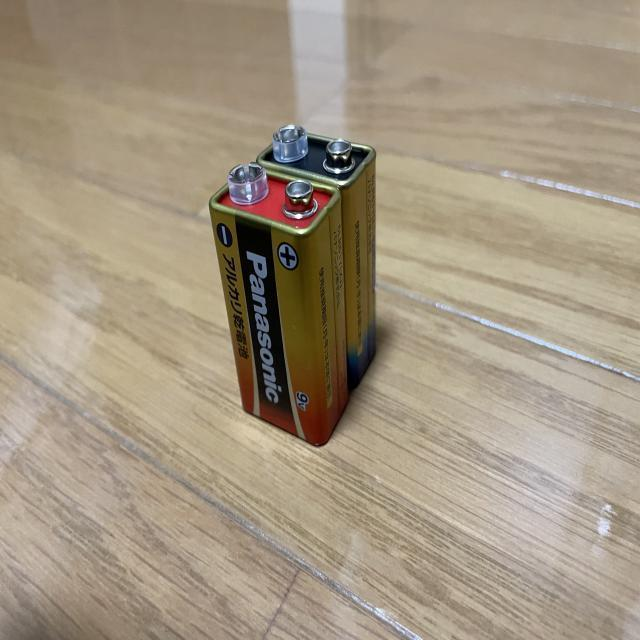9V: (207, 160, 352, 447), (254, 123, 378, 395)
